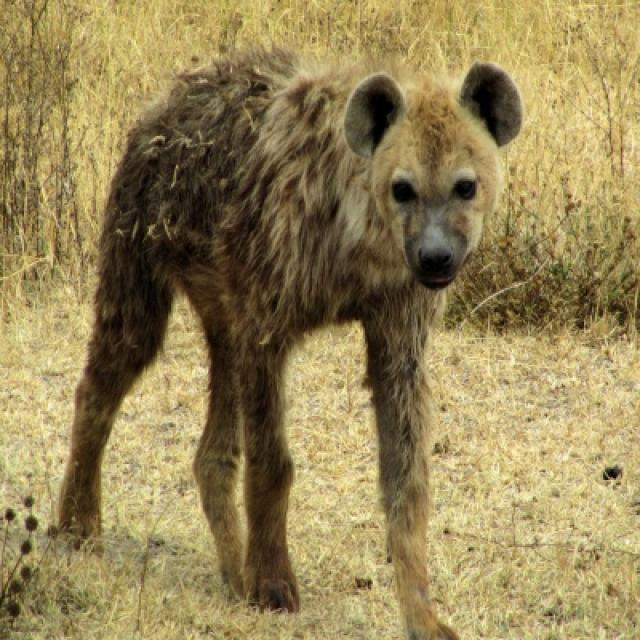hyena: (51, 45, 526, 638)
